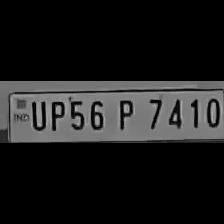0: (202, 94, 222, 128)
1: (186, 95, 202, 129)
4: (162, 96, 186, 130)
5: (66, 96, 86, 130)
6: (86, 96, 108, 130)
7: (140, 95, 164, 131)
P: (111, 95, 137, 131), (46, 97, 66, 132)
U: (27, 98, 46, 132)
